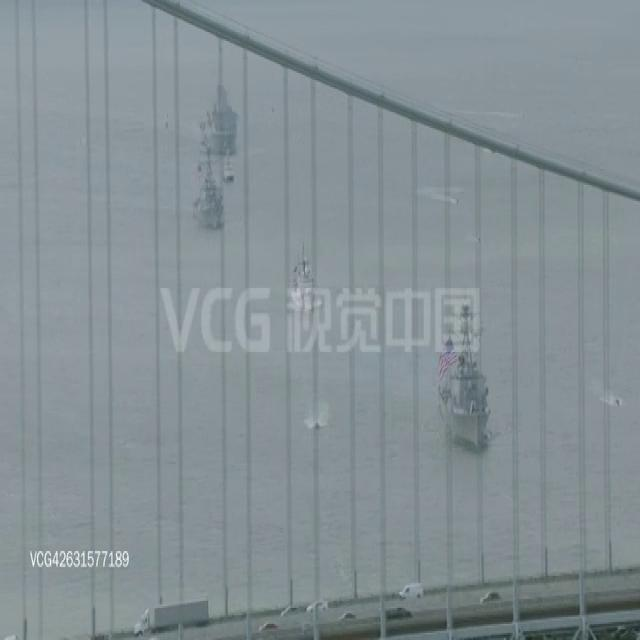houseboat: (219, 157, 235, 183), (308, 416, 324, 434), (614, 391, 623, 410), (454, 191, 462, 207)
navalvessels: (438, 297, 491, 447), (199, 68, 241, 152), (189, 139, 226, 228), (290, 244, 317, 312)
